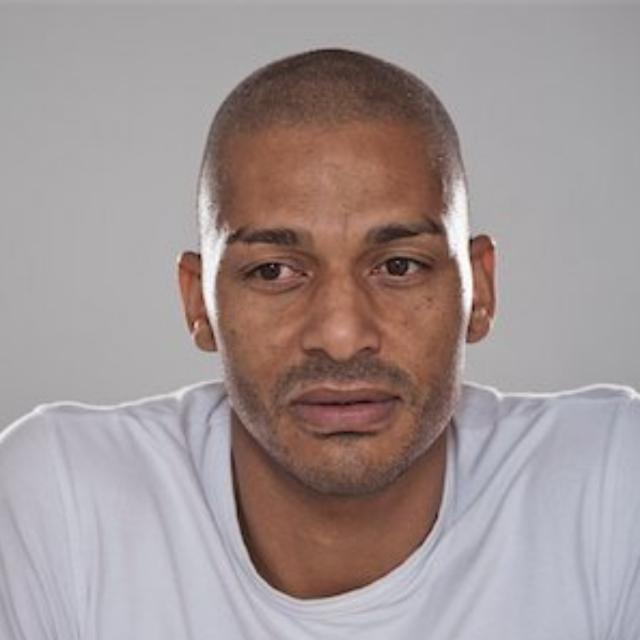Sad: (171, 110, 527, 519)
